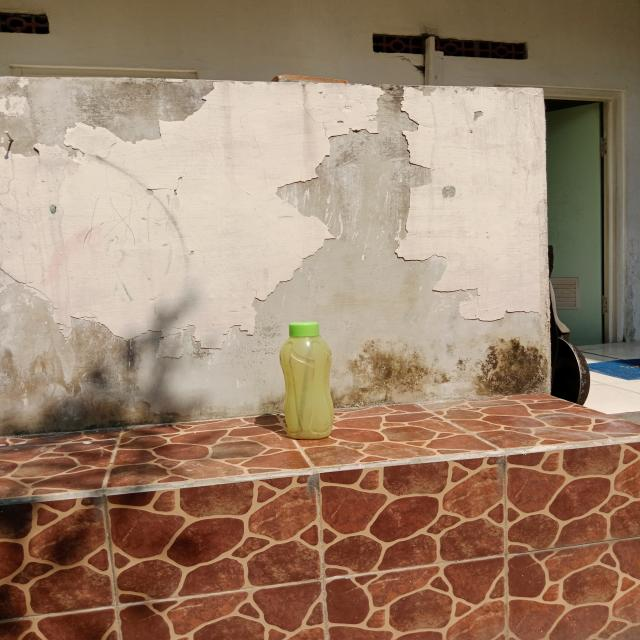botol_minum: (259, 309, 360, 452)
